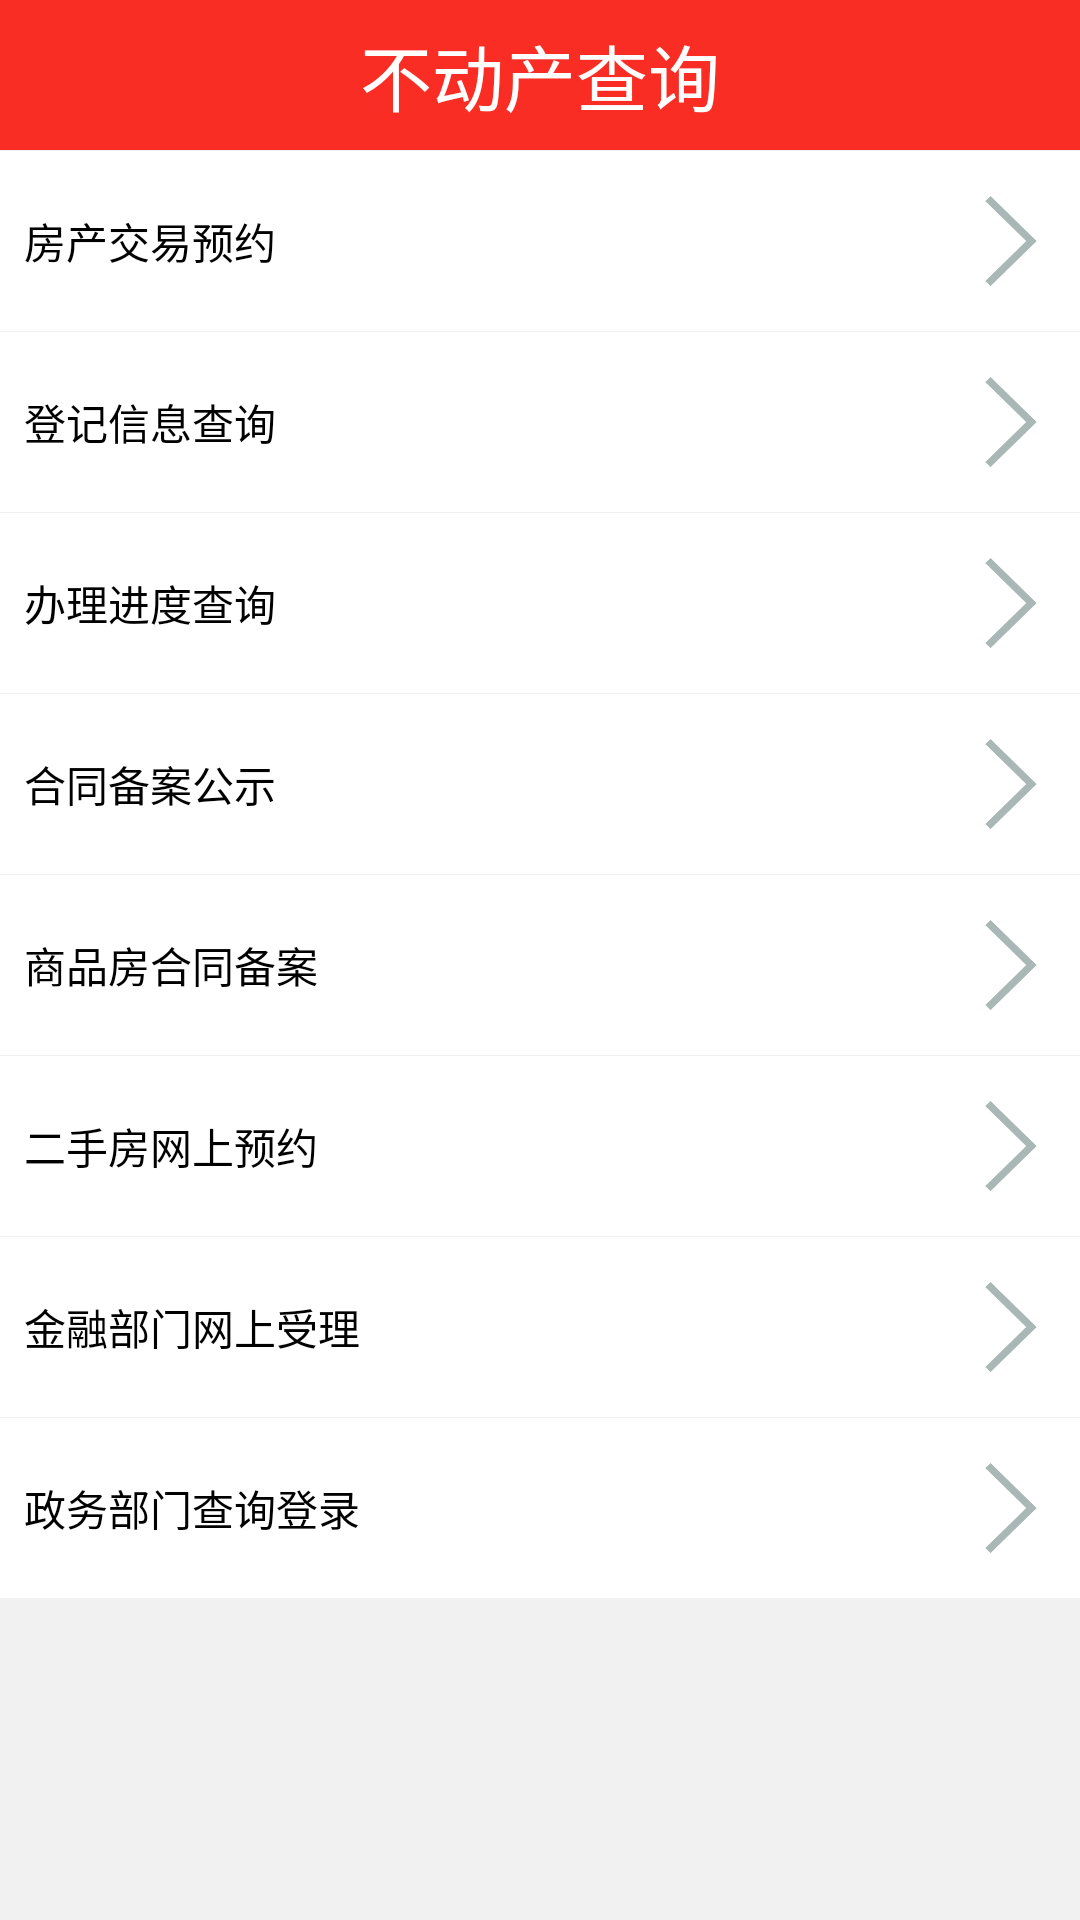

Icon click points for this 1080x1920 phone screenshot, format [x,y]:
arrow: [1010,241], [1010,422], [1010,603], [1010,784], [1010,965], [1010,1146], [1010,1327], [1010,1508]
